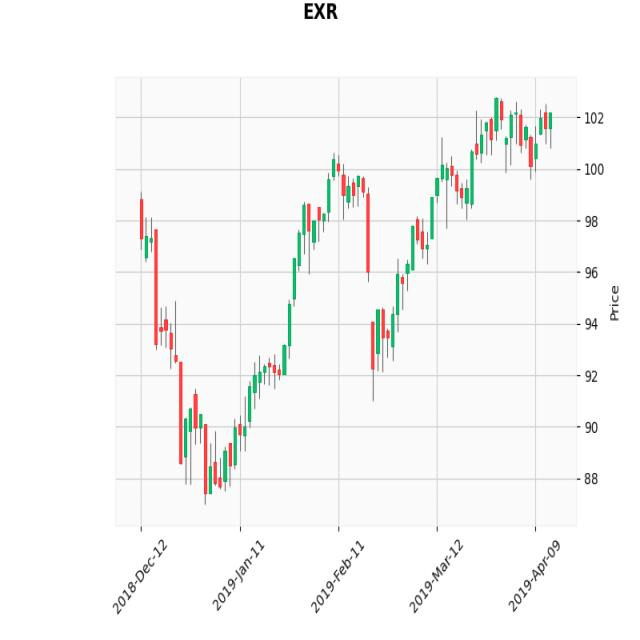Head-Shoulders: (282, 143, 382, 367)
